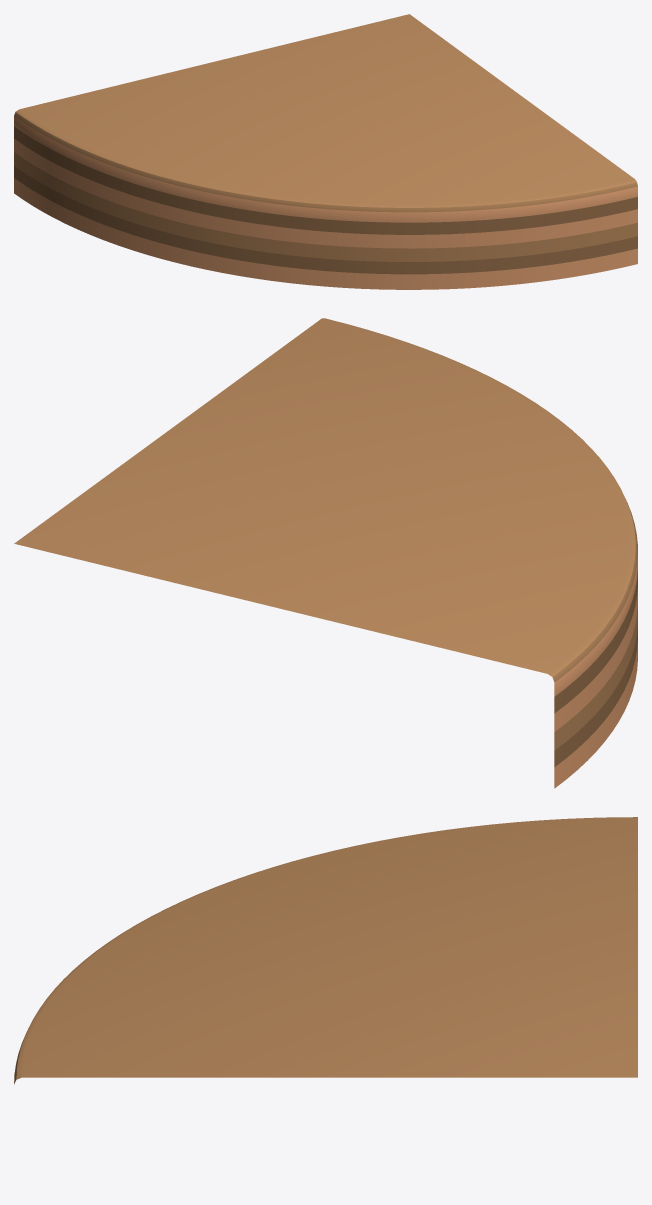
File: platform_dirt_corner_round5_tall.gltf
The picture shows the model from 3 angles, top to bottom: view 1: azimuth 30°, elevation 25°; view 2: azimuth 150°, elevation 25°; view 3: azimuth 270°, elevation 25°; orthographic projection. The views are drawn at different scales.
Visible parts, largest first — view 1: Cube_Dirt_Corner_Round5_Tall; view 2: Cube_Dirt_Corner_Round5_Tall; view 3: Cube_Dirt_Corner_Round5_Tall.
Boxes of the visible parts, x1=… form: Cube_Dirt_Corner_Round5_Tall: x1=14, y1=14, x2=637, y2=289; Cube_Dirt_Corner_Round5_Tall: x1=14, y1=318, x2=637, y2=788; Cube_Dirt_Corner_Round5_Tall: x1=14, y1=817, x2=637, y2=1084.
Bounding box in the file's own units: 10 × 2 × 10.
